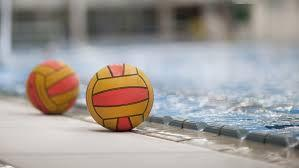Ball: (86, 63, 154, 132), (28, 60, 80, 115)
